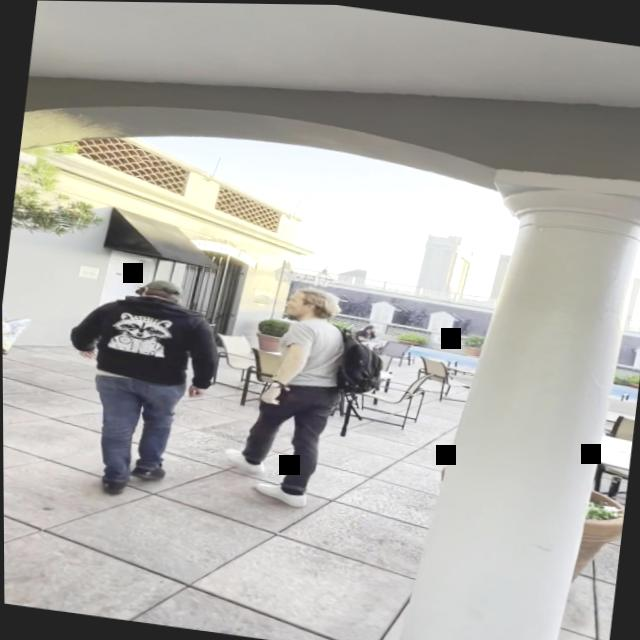NO-Mask: (283, 287, 310, 317), (368, 325, 376, 332)
